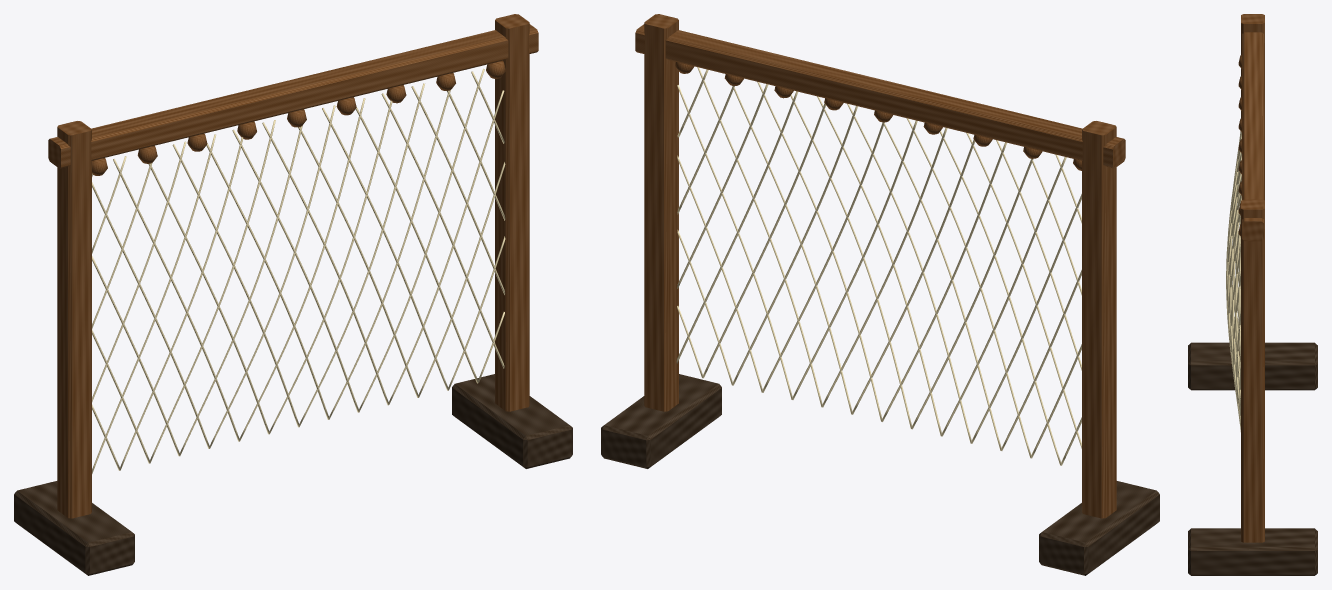
File: fishing_net_rack.glb
3 renders of one model, left to right at view 1: azimuth 30°, elevation 25°; view 2: azimuth 150°, elevation 25°; view 3: azimuth 270°, elevation 25°, orthographic. The views are drawn at different scales.
Parts seen in each view (by area): view 1: fishing_net_rack_Joinery, fishing_net_rack_Detail; view 2: fishing_net_rack_Joinery, fishing_net_rack_Detail; view 3: fishing_net_rack_Joinery, fishing_net_rack_Detail.
Boxes of the visible parts, x1=… form: fishing_net_rack_Joinery: x1=14, y1=14, x2=572, y2=575; fishing_net_rack_Detail: x1=92, y1=69, x2=505, y2=473; fishing_net_rack_Joinery: x1=601, y1=14, x2=1159, y2=575; fishing_net_rack_Detail: x1=676, y1=67, x2=1081, y2=465; fishing_net_rack_Joinery: x1=1188, y1=14, x2=1317, y2=575; fishing_net_rack_Detail: x1=1226, y1=131, x2=1241, y2=431.
Size of the model in its own units: 2.45 by 2 by 0.65.
Materials: 1 (1 with a texture image).
